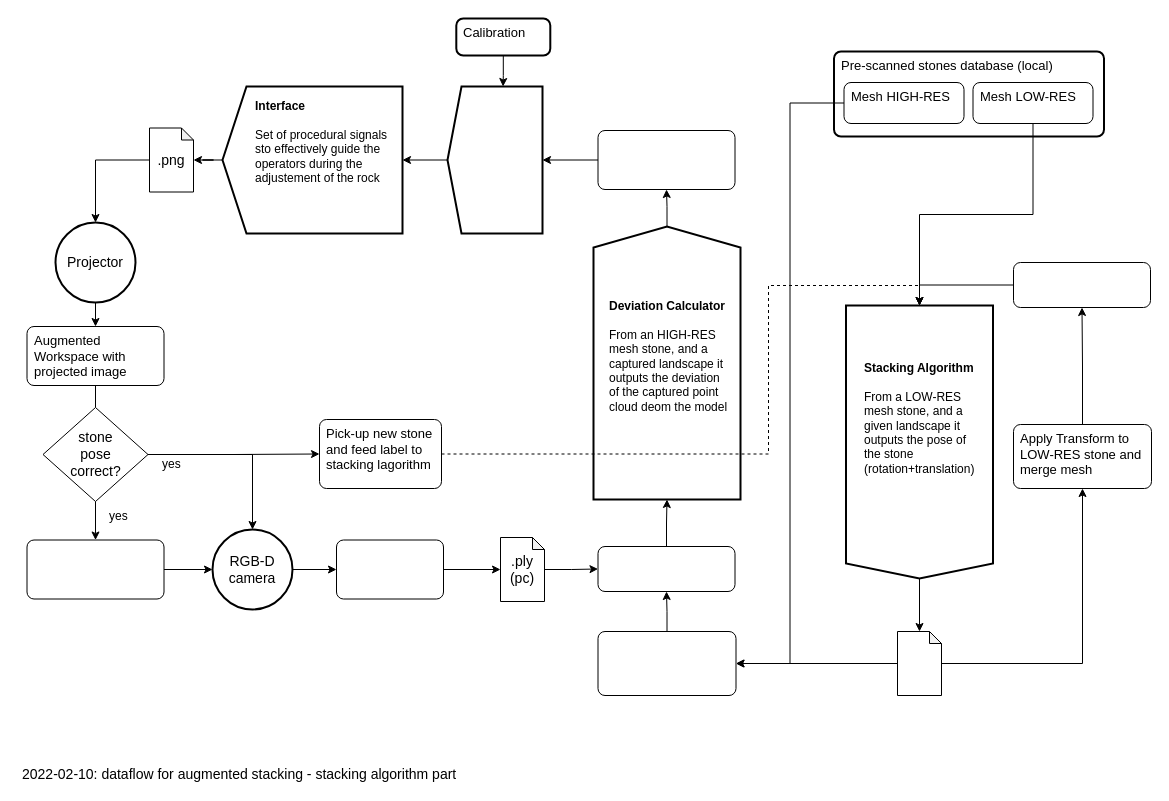
This 1169x801 diagram has some shape labels left out. The box of each missing label's shape, as (x1, y1, x2, y2) in pixels:
.txt (6dof): (896, 630, 942, 696)
Apply Transform to HIGH-RES stone: (597, 630, 736, 696)
Capture of the as-build stacked structure: (336, 539, 444, 599)
Deviation between captured pcd and model: (597, 130, 735, 190)
Operator adjust the stone following projected mapping: (26, 539, 164, 599)
Pipeline 2D-3D Pipeline to convert 3D location to 2D pixel: (446, 85, 543, 234)
Updated landscape (mesh): (1012, 262, 1150, 308)
Updated landscape (pcd): (597, 546, 735, 592)
